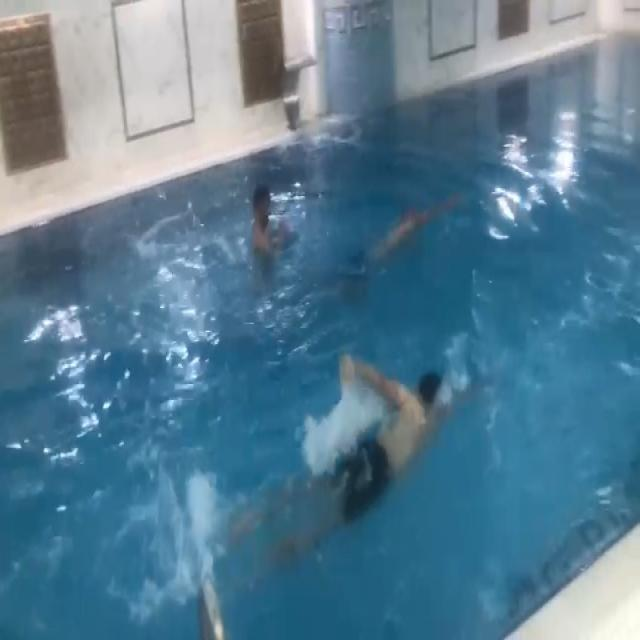Drowning: (238, 357, 453, 567)
Swimming: (244, 185, 302, 262)
